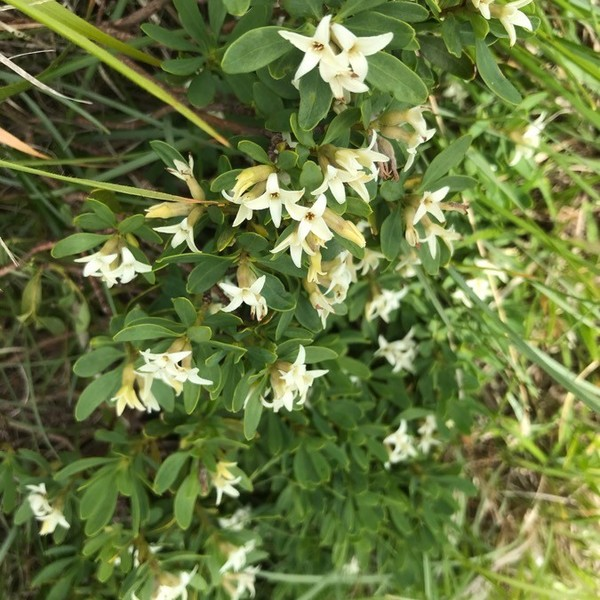obstacle: (119, 132, 556, 561)
